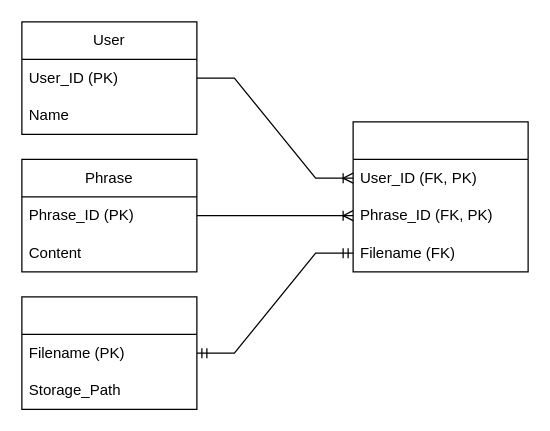
Some shapes in this 550 by 431 pixel diagram are drawn without their labels. The shapes that lost their labels are listed below. From the top down, each one's box as (x1, y1, x2, y2) in pixels, then its label:
(352, 121, 528, 272): User_Phrase_Audio
(21, 296, 197, 409): Audio_File
